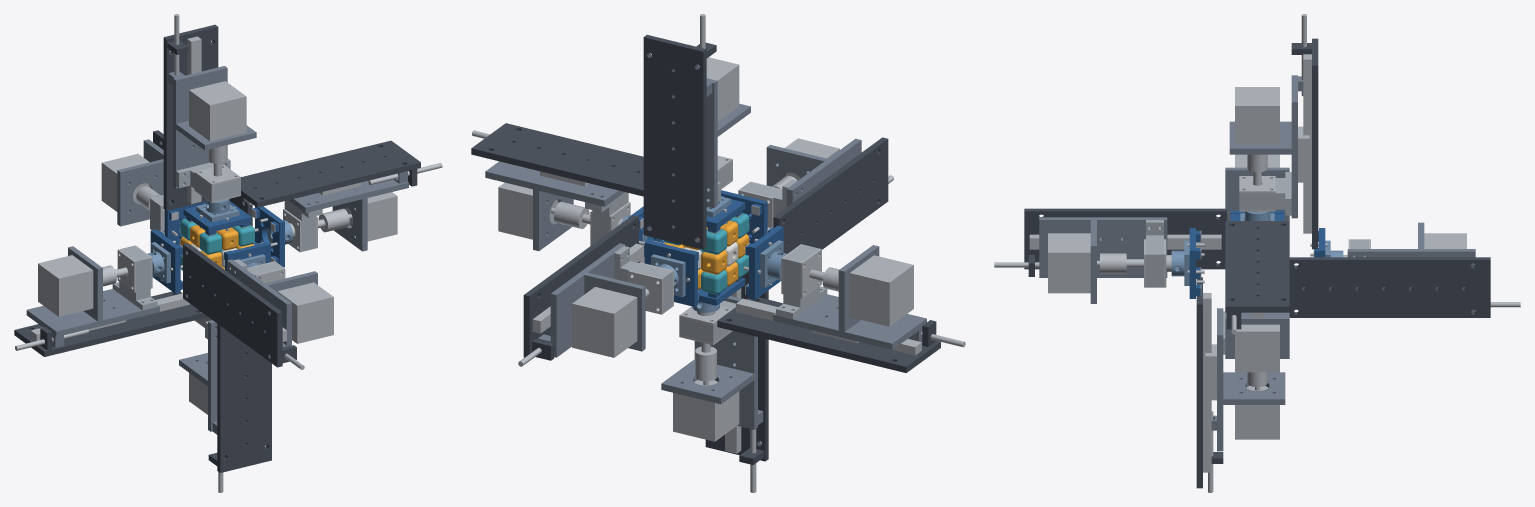
The model's file is robot_assembly.glb.
3 views of the same model, side by side, from view 1: azimuth 30°, elevation 25°; view 2: azimuth 150°, elevation 25°; view 3: azimuth 270°, elevation 25° (orthographic). The views are drawn at different scales.
Parts seen in each view (by area): view 1: rail_support (×5), carriage (×6), motor_NEMA17 (×6), drive_plate (×5), bearing_housing (×3), shaft_hub (×2), rail_MGN12 (×2), bearing_rear_cap (×2), coupling_5x8; view 2: rail_support (×6), carriage (×6), motor_NEMA17 (×6), bearing_housing (×5), drive_plate (×5), shaft_hub (×2), bearing_rear_cap (×2), rail_MGN12 (×2), coupling_5x8 (×2), corner_01, edge_04; view 3: rail_support (×5), carriage (×6), motor_NEMA17 (×5), rail_MGN12 (×3), bearing_housing (×2), block_MGN12H (×2), drive_plate, shaft_hub, bearing_rear_cap, coupling_5x8.
Boxes of the visible parts, x1=… form: rail_support (×5): x1=14, y1=24, x2=420, y2=472; carriage (×6): x1=26, y1=66, x2=408, y2=434; motor_NEMA17 (×6): x1=38, y1=81, x2=397, y2=414; drive_plate (×5): x1=150, y1=201, x2=284, y2=293; bearing_housing (×3): x1=112, y1=158, x2=322, y2=310; shaft_hub (×2): x1=147, y1=199, x2=239, y2=283; rail_MGN12 (×2): x1=30, y1=36, x2=201, y2=340; bearing_rear_cap (×2): x1=117, y1=164, x2=240, y2=292; coupling_5x8: x1=318, y1=208, x2=349, y2=232; rail_support (×6): x1=471, y1=34, x2=940, y2=464; carriage (×6): x1=485, y1=78, x2=926, y2=429; motor_NEMA17 (×6): x1=498, y1=57, x2=913, y2=441; bearing_housing (×5): x1=585, y1=179, x2=827, y2=342; drive_plate (×5): x1=644, y1=190, x2=783, y2=306; shaft_hub (×2): x1=651, y1=240, x2=787, y2=297; bearing_rear_cap (×2): x1=628, y1=248, x2=821, y2=314; rail_MGN12 (×2): x1=532, y1=243, x2=921, y2=355; coupling_5x8 (×2): x1=554, y1=201, x2=716, y2=381; corner_01: x1=701, y1=268, x2=727, y2=294; edge_04: x1=701, y1=250, x2=727, y2=274; rail_support (×5): x1=1024, y1=38, x2=1490, y2=488; carriage (×6): x1=1039, y1=75, x2=1475, y2=451; motor_NEMA17 (×5): x1=1048, y1=87, x2=1466, y2=439; rail_MGN12 (×3): x1=1029, y1=54, x2=1311, y2=472; bearing_housing (×2): x1=1146, y1=172, x2=1291, y2=287; block_MGN12H (×2): x1=1205, y1=126, x2=1309, y2=400; drive_plate: x1=1189, y1=228, x2=1200, y2=298; shaft_hub: x1=1171, y1=240, x2=1189, y2=285; bearing_rear_cap: x1=1239, y1=176, x2=1275, y2=193; coupling_5x8: x1=1100, y1=253, x2=1126, y2=273.
Bounding box in the file's own units: 493 × 493 × 493.
